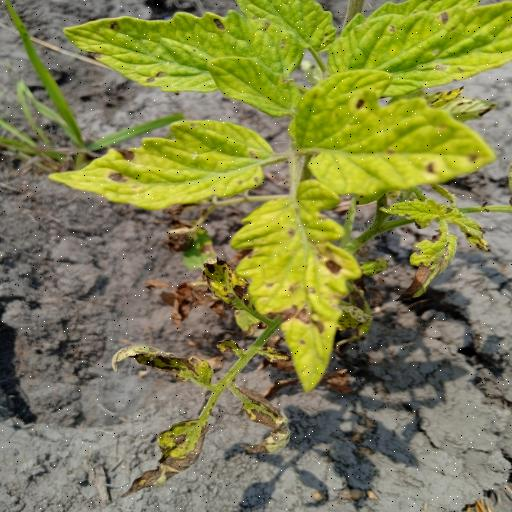Tomato_Brown_Spots: (238, 176, 366, 399), (291, 68, 501, 202), (58, 9, 309, 100), (45, 118, 279, 210), (321, 0, 512, 96)
